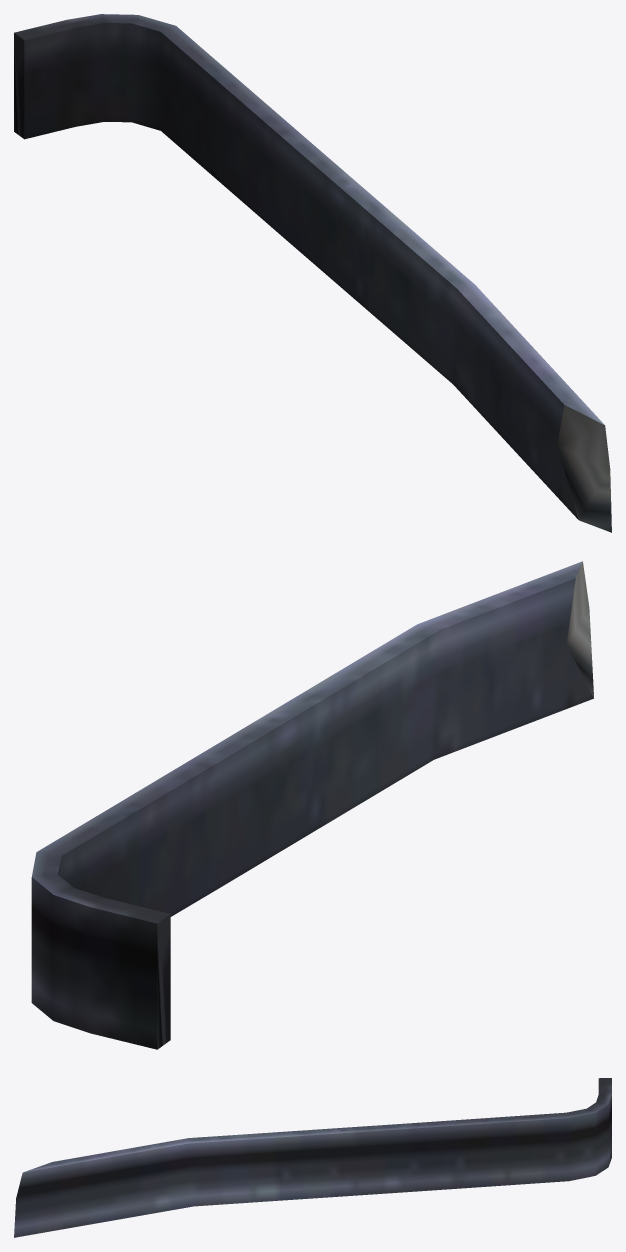
File: doorglassmain01_dm03_d.glb
The picture shows the model from 3 angles, top to bottom: view 1: azimuth 30°, elevation 25°; view 2: azimuth 150°, elevation 25°; view 3: azimuth 270°, elevation 25°; orthographic projection. The views are drawn at different scales.
Visible parts, largest first — view 1: doorglassmain01_dm03_d; view 2: doorglassmain01_dm03_d; view 3: doorglassmain01_dm03_d.
Part boxes in pixels (x1,y1,x2,y2): doorglassmain01_dm03_d: [14, 14, 611, 532]; doorglassmain01_dm03_d: [31, 561, 593, 1049]; doorglassmain01_dm03_d: [14, 1078, 611, 1237].
Size of the model in its own units: 0.0469 by 0.0655 by 0.2965.
1 material, 1 textured.
